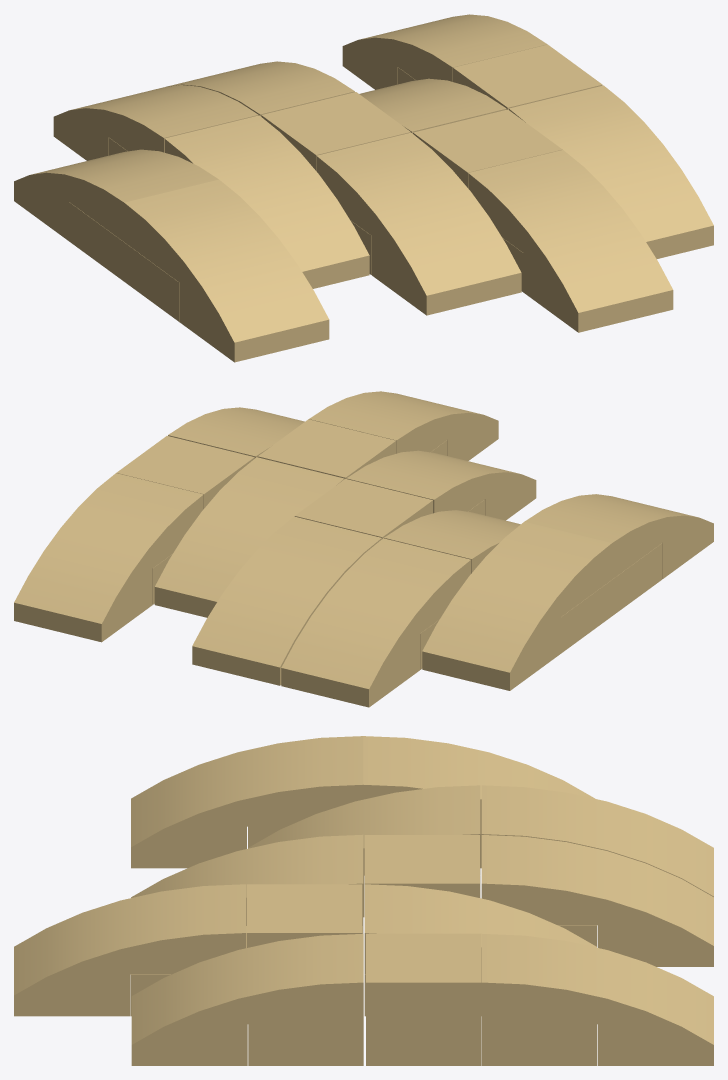
File: LEGO Sand.fbx
The picture shows the model from 3 angles, top to bottom: view 1: azimuth 30°, elevation 25°; view 2: azimuth 150°, elevation 25°; view 3: azimuth 270°, elevation 25°; orthographic projection. The views are drawn at different scales.
Visible parts, largest first — view 1: Object.011, Object.013, Object.014, Object.012, Object.016, Object.023, Object.022, Object.017, Object.015, Object.019, Object.018, Object.021 (+2 smaller); view 2: Object.023, Object.017, Object.022, Object.021, Object.020, Object.011, Object.013, Object.014, Object.018, Object.015, Object.019, Object.012 (+2 smaller); view 3: Object.016, Object.017, Object.014, Object.011, Object.021, Object.022, Object.019, Object.023, Object.012, Object.020, Object.013, Object.018 (+5 smaller).
Part boxes in pixels (left/top/right/bottom): Object.011: left=124, top=179, right=329, bottom=362; Object.013: left=316, top=132, right=521, bottom=315; Object.014: left=468, top=150, right=673, bottom=332; Object.012: left=164, top=115, right=369, bottom=288; Object.016: left=509, top=85, right=713, bottom=258; Object.023: left=14, top=149, right=218, bottom=241; Object.022: left=53, top=85, right=258, bottom=160; Object.017: left=342, top=14, right=547, bottom=89; Object.015: left=261, top=92, right=410, bottom=170; Object.019: left=453, top=44, right=602, bottom=109; Object.018: left=413, top=109, right=562, bottom=187; Object.021: left=166, top=61, right=354, bottom=116; Object.023: left=422, top=522, right=611, bottom=690; Object.017: left=14, top=473, right=203, bottom=642; Object.022: left=281, top=538, right=470, bottom=707; Object.021: left=192, top=516, right=381, bottom=685; Object.020: left=154, top=457, right=344, bottom=617; Object.011: left=524, top=494, right=713, bottom=579; Object.013: left=346, top=450, right=536, bottom=520; Object.014: left=309, top=391, right=498, bottom=460; Object.018: left=257, top=419, right=396, bottom=478; Object.015: left=294, top=479, right=432, bottom=538; Object.019: left=116, top=436, right=254, bottom=508; Object.012: left=384, top=510, right=520, bottom=573; Object.016: left=131, top=933, right=363, bottom=1065; Object.017: left=481, top=934, right=713, bottom=1065; Object.014: left=14, top=884, right=246, bottom=1016; Object.011: left=131, top=736, right=363, bottom=868; Object.021: left=481, top=835, right=713, bottom=966; Object.022: left=481, top=785, right=713, bottom=896; Object.019: left=366, top=933, right=481, bottom=1024; Object.023: left=363, top=736, right=595, bottom=868; Object.012: left=248, top=785, right=480, bottom=917; Object.020: left=364, top=884, right=596, bottom=1015; Object.013: left=131, top=834, right=363, bottom=925; Object.018: left=247, top=884, right=362, bottom=947.
Size of the model in its own units: 144 by 173 by 22.77.
